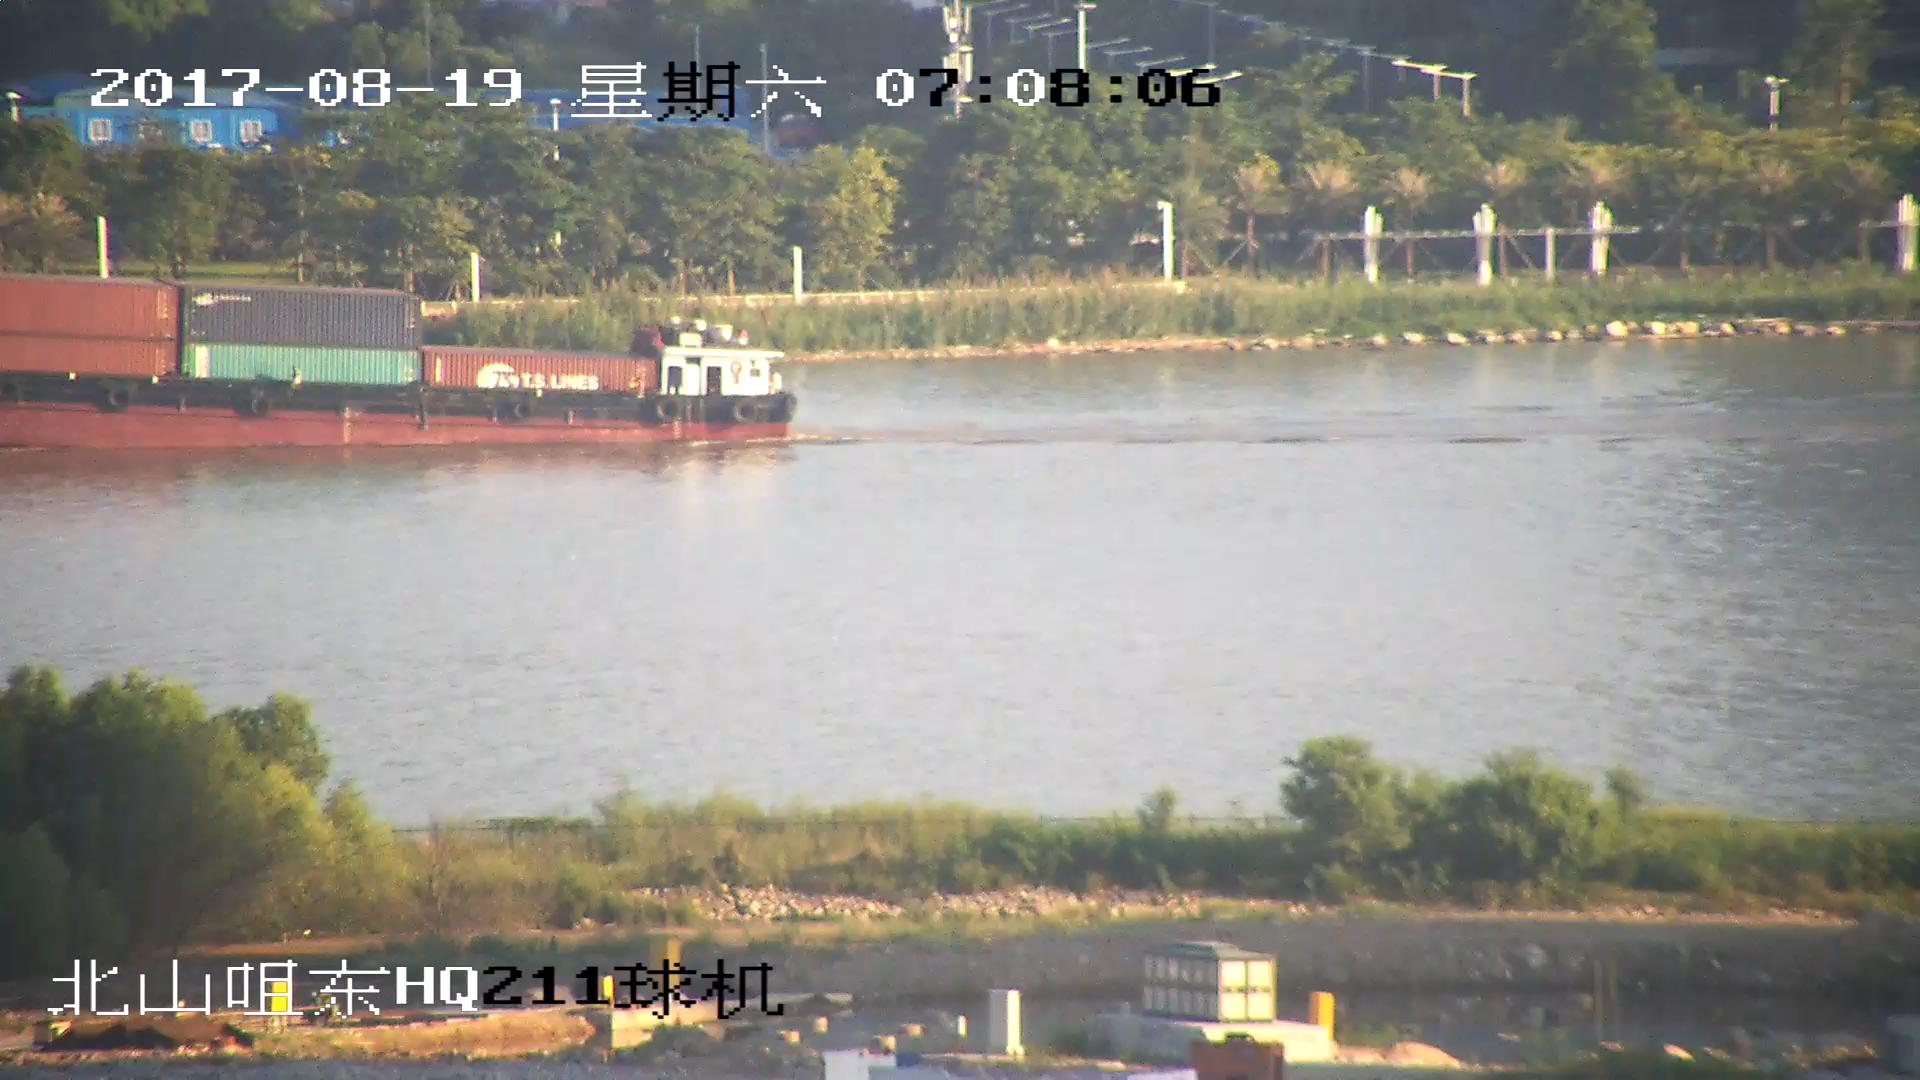container ship: (1, 281, 800, 456)
